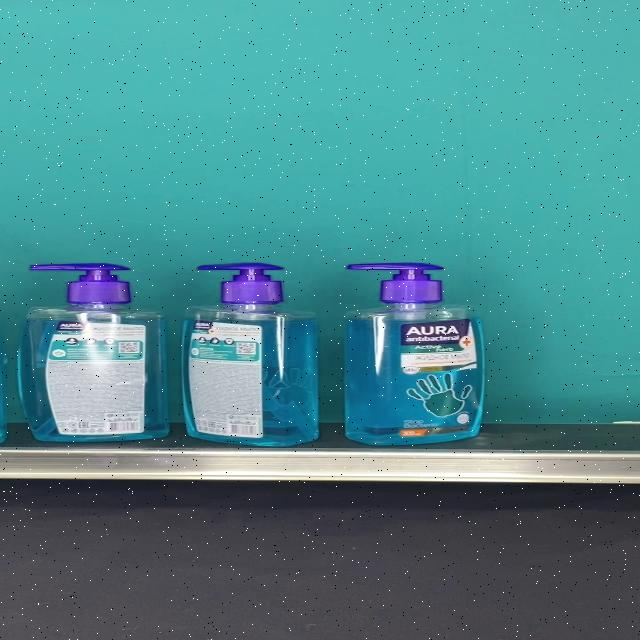Bottle: (18, 263, 170, 441), (343, 262, 485, 446), (178, 263, 318, 447)
Cap: (29, 263, 132, 304), (348, 262, 443, 304), (198, 263, 286, 305)
